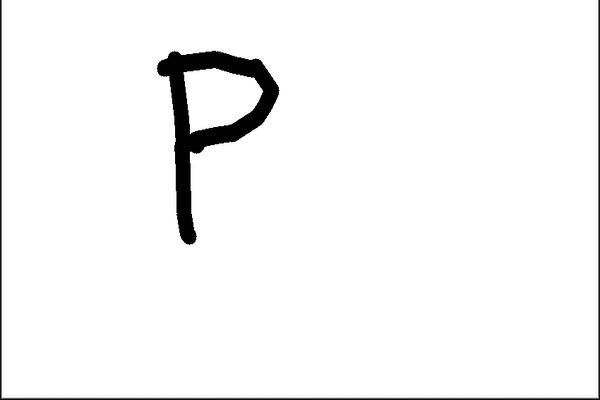P: (147, 33, 294, 256)
